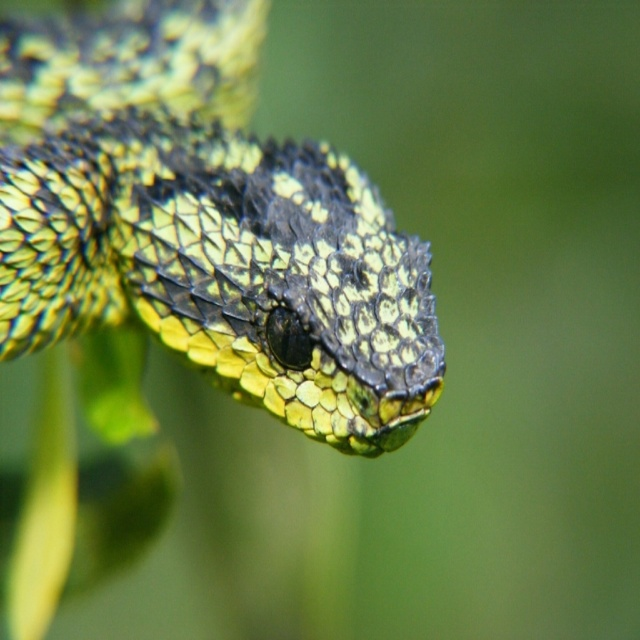Snake: (0, 0, 447, 457)
